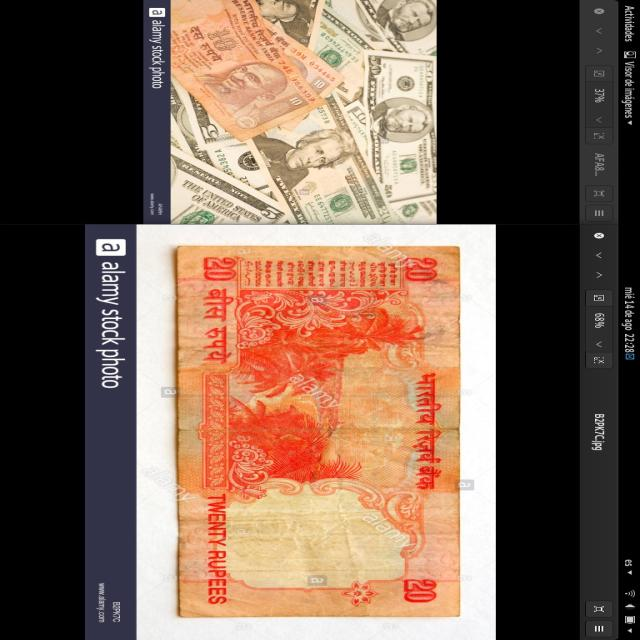20IndianRupees: (197, 245, 466, 610)
